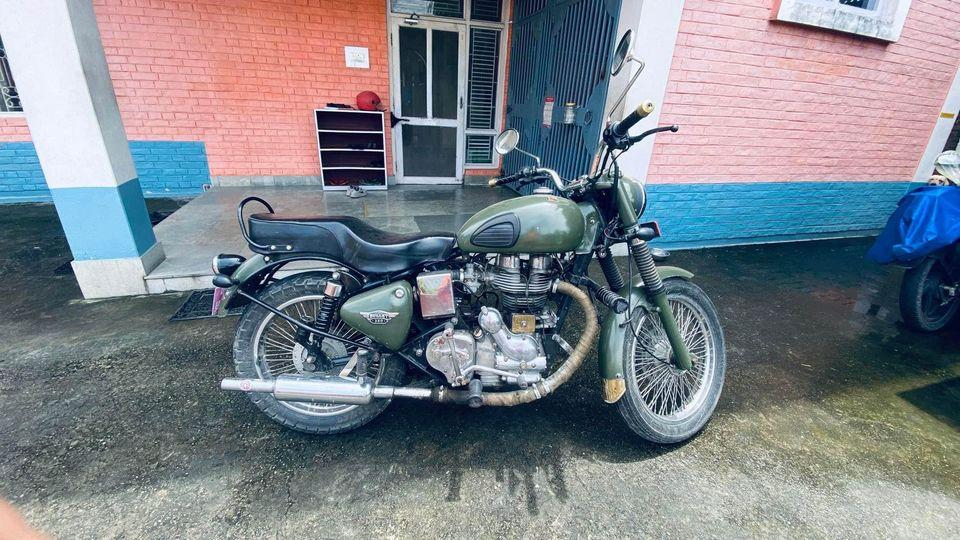bike: (209, 115, 736, 448)
